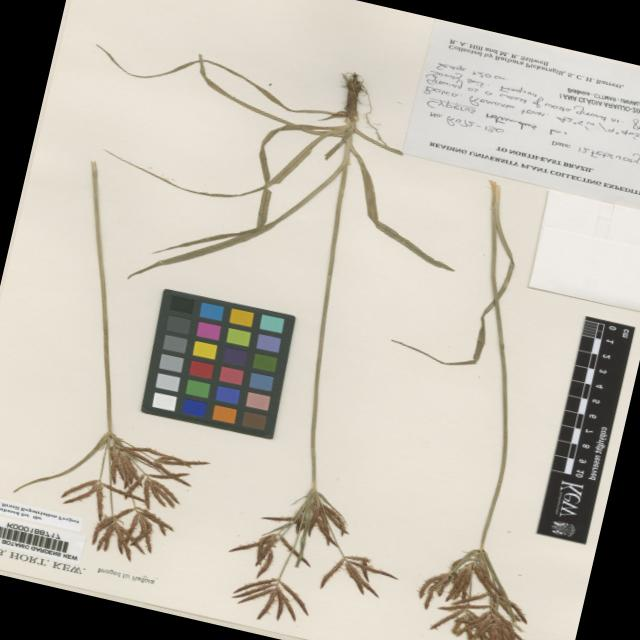cyperus: (208, 471, 408, 640), (54, 426, 224, 577), (390, 532, 562, 640)
